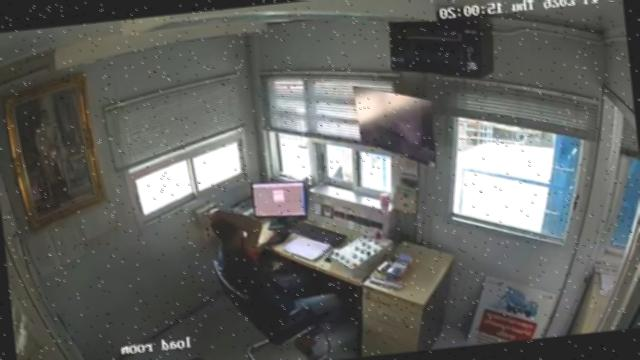Head: (204, 206, 256, 253)
People: (208, 210, 342, 328)
